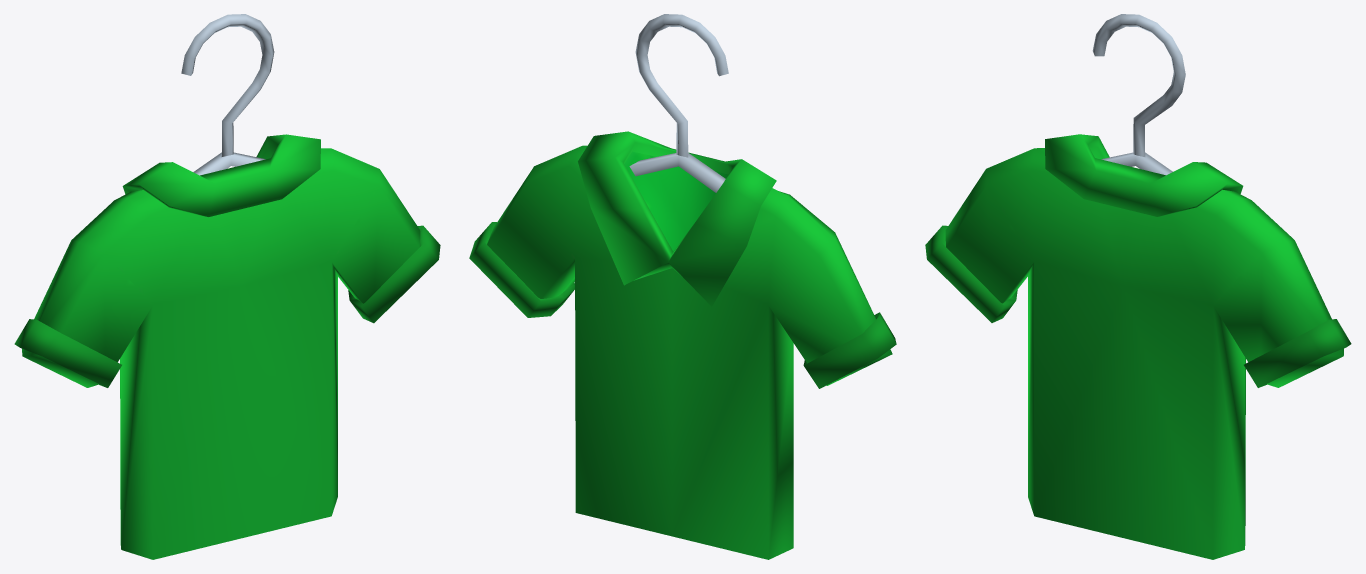
File: PoloCleanHang.fbx
3 renders of one model, left to right at view 1: azimuth 30°, elevation 25°; view 2: azimuth 150°, elevation 25°; view 3: azimuth 330°, elevation 25°, orthographic.
Parts seen in each view (by area): view 1: PoloCleanHang; view 2: PoloCleanHang; view 3: PoloCleanHang.
Part boxes in pixels (x1=…): PoloCleanHang: x1=14, y1=14, x2=440, y2=559; PoloCleanHang: x1=469, y1=14, x2=896, y2=559; PoloCleanHang: x1=925, y1=14, x2=1351, y2=559.
Size of the model in its own units: 131 by 153 by 17.81.
